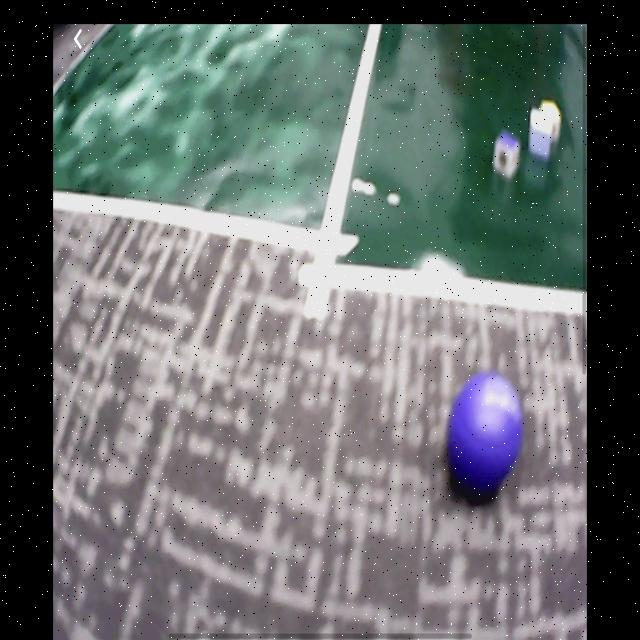ball: (449, 371, 525, 499)
